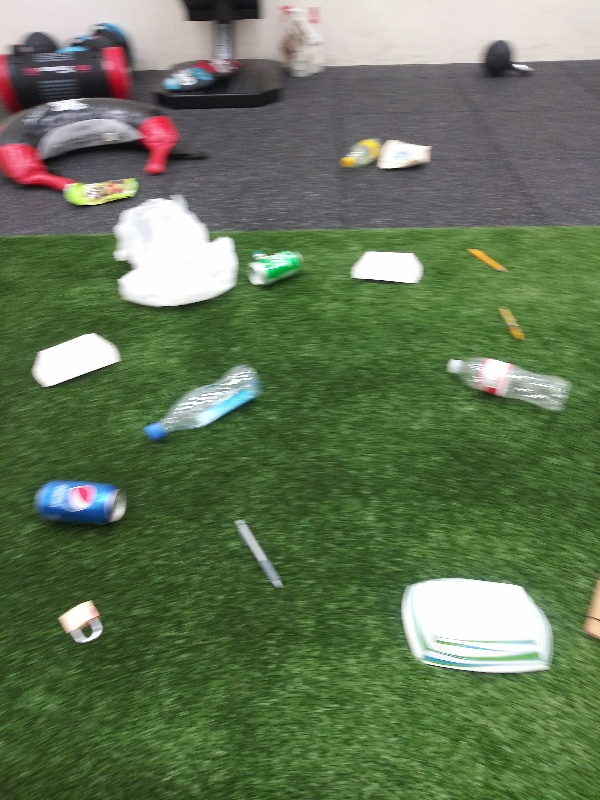bag: (60, 173, 149, 206), (374, 135, 433, 175)
bottle: (137, 359, 268, 442), (441, 351, 577, 423), (334, 132, 384, 173)
can: (25, 478, 131, 527), (245, 245, 309, 290)
plate: (396, 574, 560, 681), (29, 331, 127, 389), (343, 246, 429, 290)
